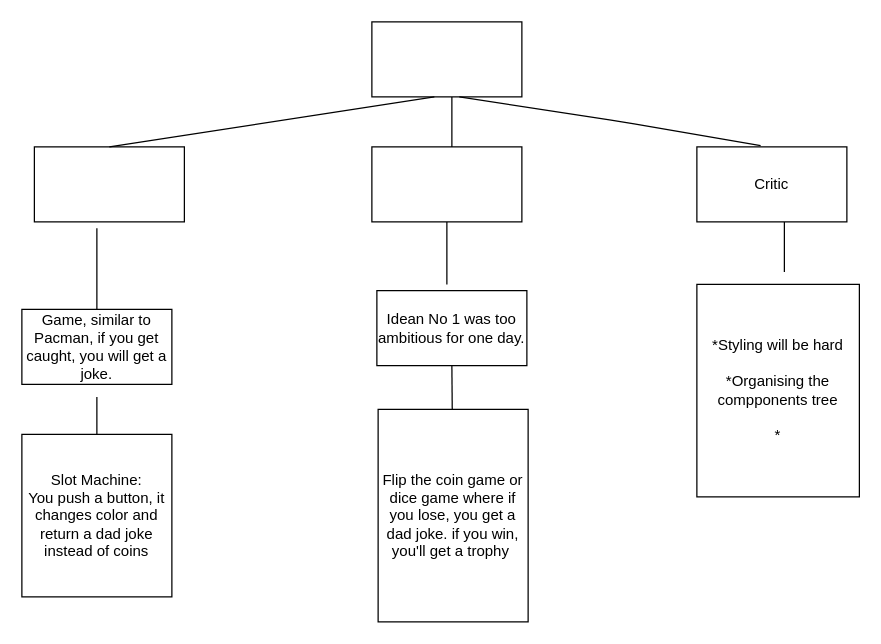
Image size: 881x644. Some labels were removed from this diagram. The centre of each missing label's shape, as x and y in pixels:
"DAD JOKES" belongs at point 446,59.
"Dreamer Stage" belongs at point 108,184.
"Realistic" belongs at point 446,184.
